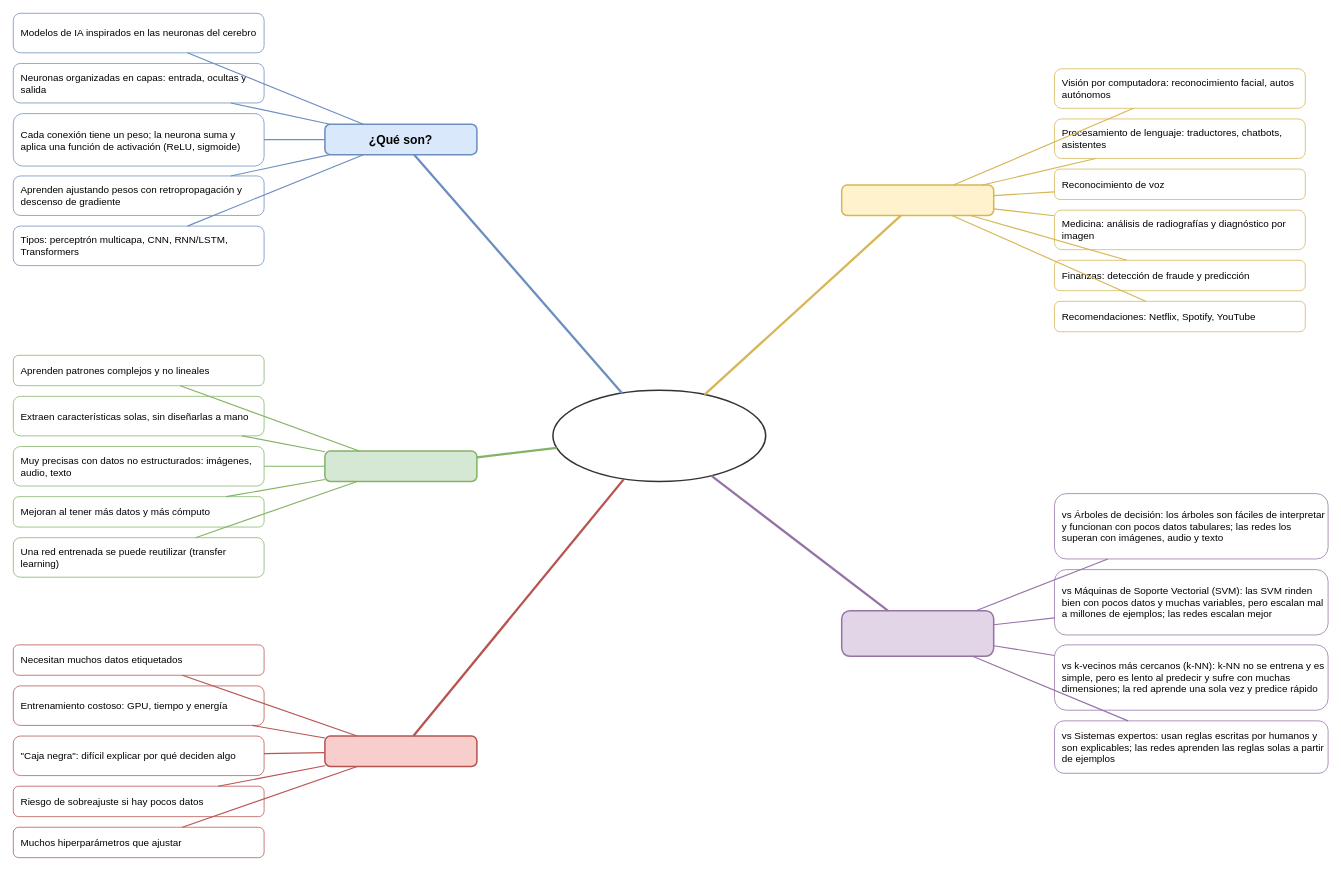
The diagram is 1341 pixels wide and 871 high, and some of its shapes have lost their labels. The box of each missing label's shape, as (x1, y1, x2, y2) in pixels:
Aplicaciones: (841, 184, 994, 216)
Comparación con otras técnicas de IA: (841, 610, 994, 657)
Desventajas: (324, 735, 477, 767)
Redes Neuronales Artificiales: (552, 389, 766, 482)
Ventajas: (324, 450, 477, 482)
